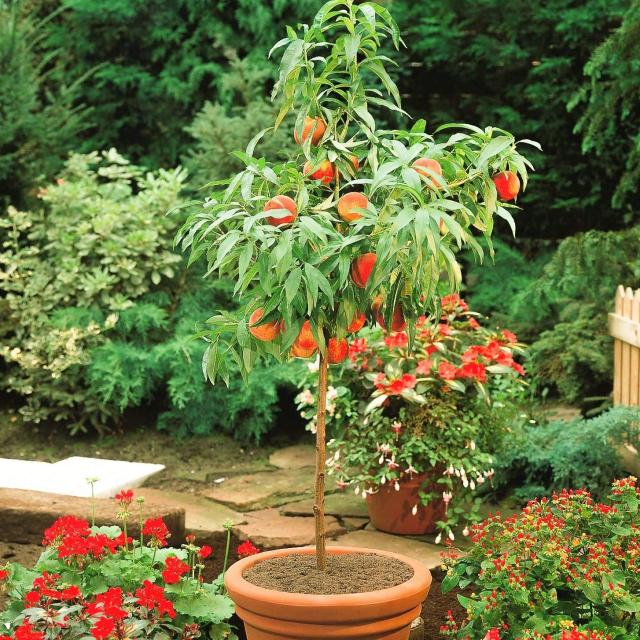peach: (212, 0, 533, 431)
